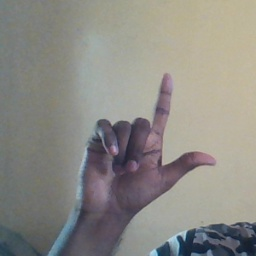L: (69, 71, 219, 213)
